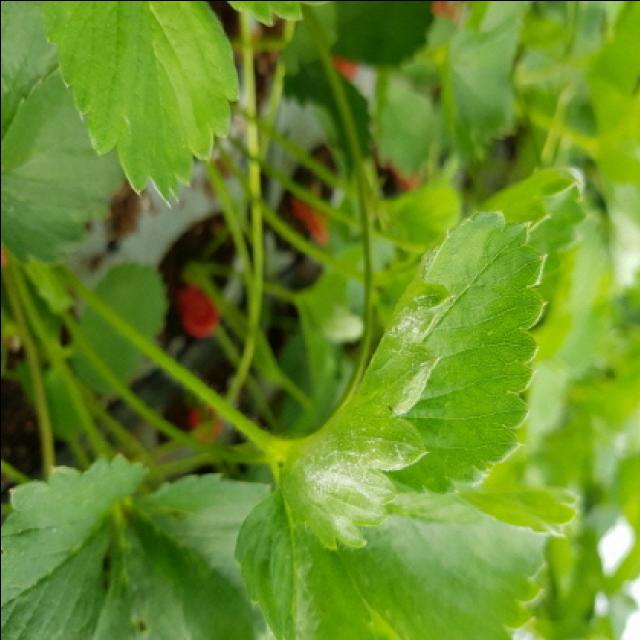Powdery Mildew Leaf: (279, 208, 548, 552)
